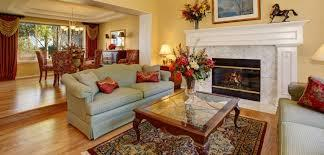chair: (52, 48, 74, 82), (78, 48, 103, 72), (35, 50, 52, 81), (117, 49, 141, 64)
light: (60, 7, 87, 35), (305, 41, 324, 74), (160, 42, 173, 66), (109, 32, 118, 52), (103, 32, 111, 49), (119, 31, 125, 51)
sofa: (62, 62, 175, 139), (276, 77, 324, 155)
table: (130, 87, 249, 155), (51, 51, 87, 84), (103, 51, 114, 64)
